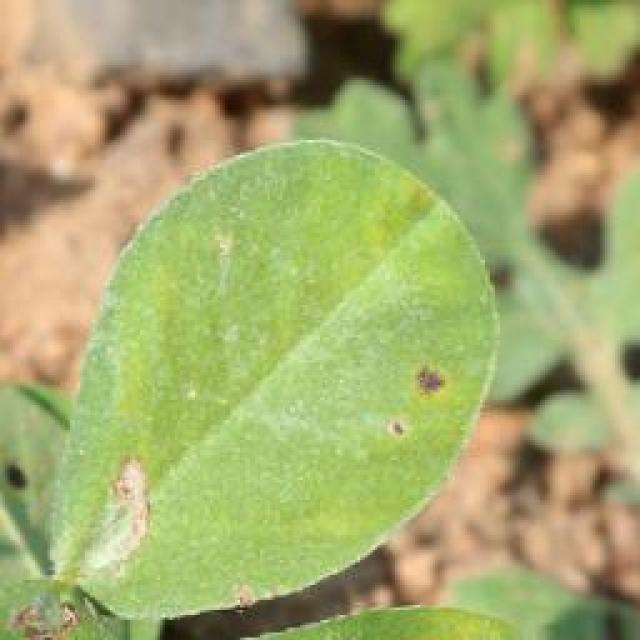Early_leaf_spot: (64, 450, 188, 609), (362, 349, 462, 471), (198, 218, 270, 297)
